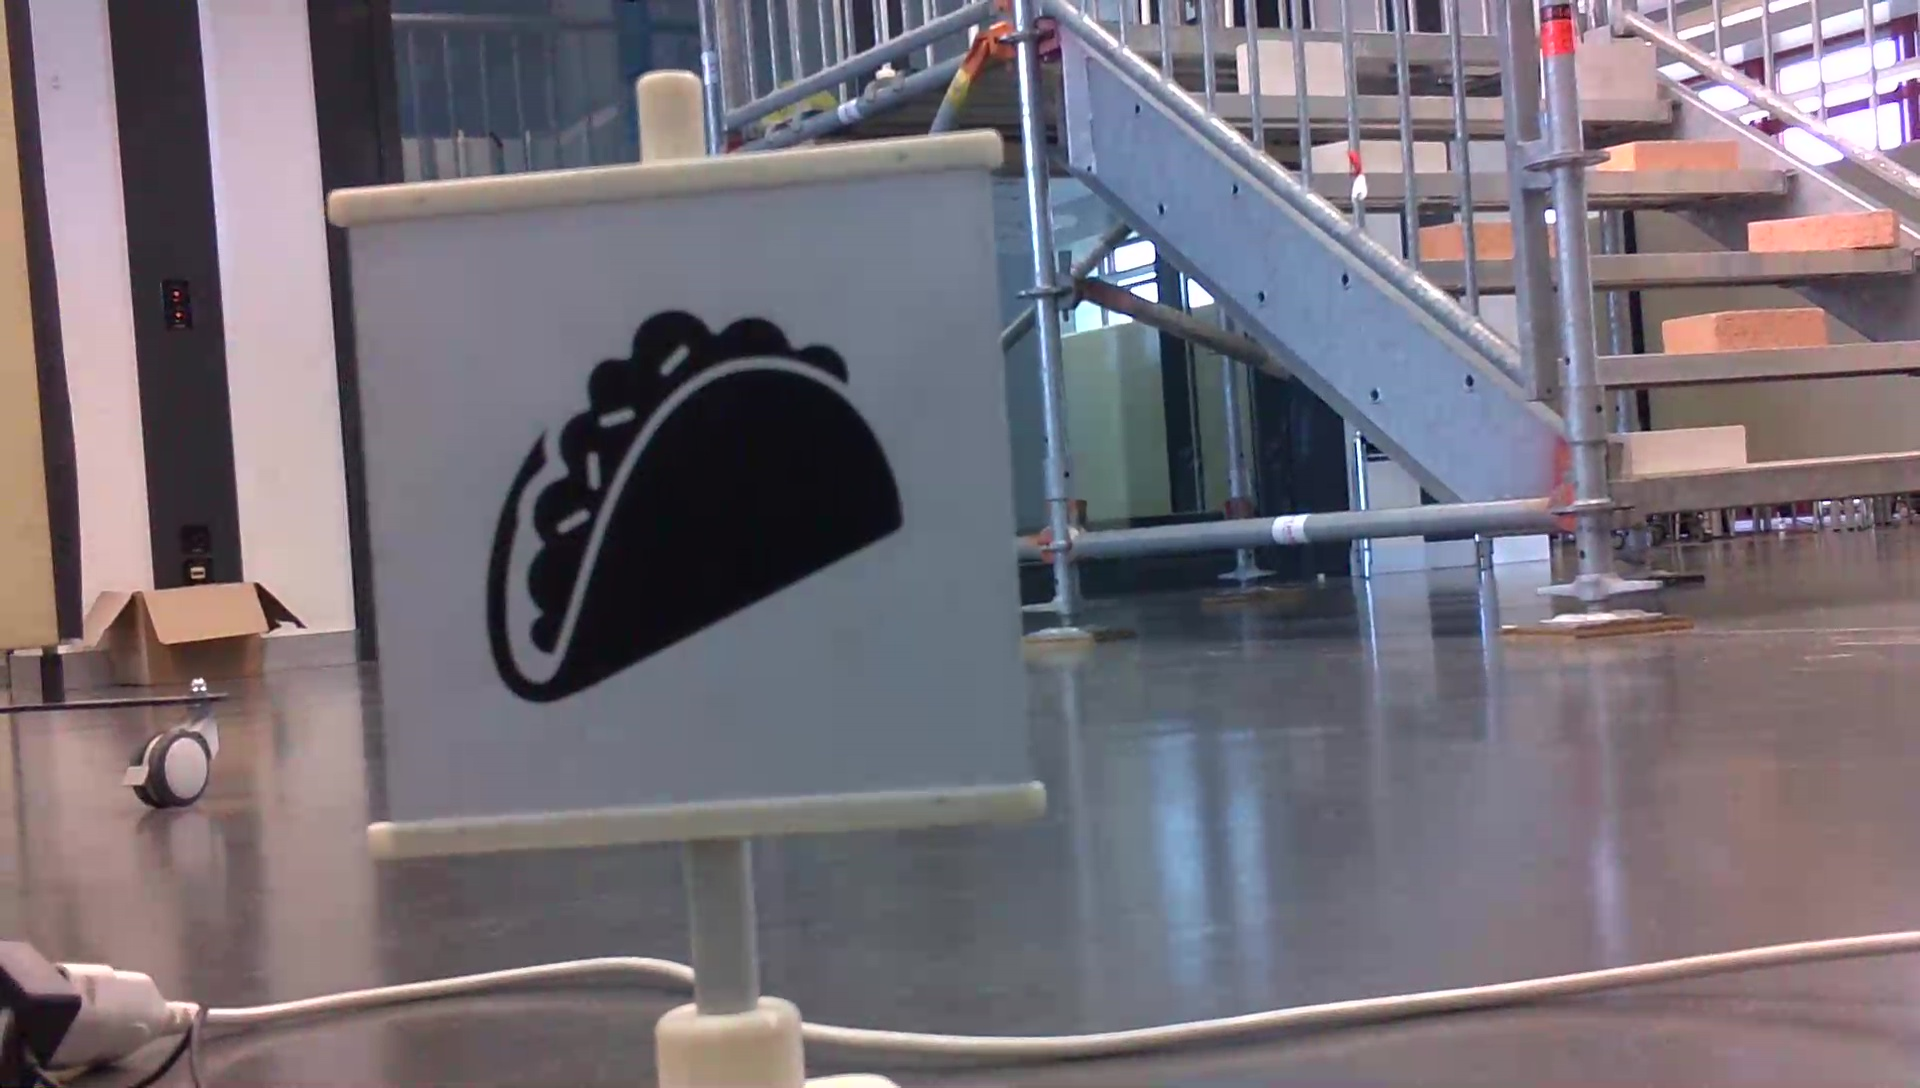brick: (1663, 310, 1822, 351), (1750, 212, 1895, 251), (1615, 426, 1742, 468), (1575, 42, 1652, 95), (1597, 142, 1738, 171)
taco: (477, 301, 915, 717)
